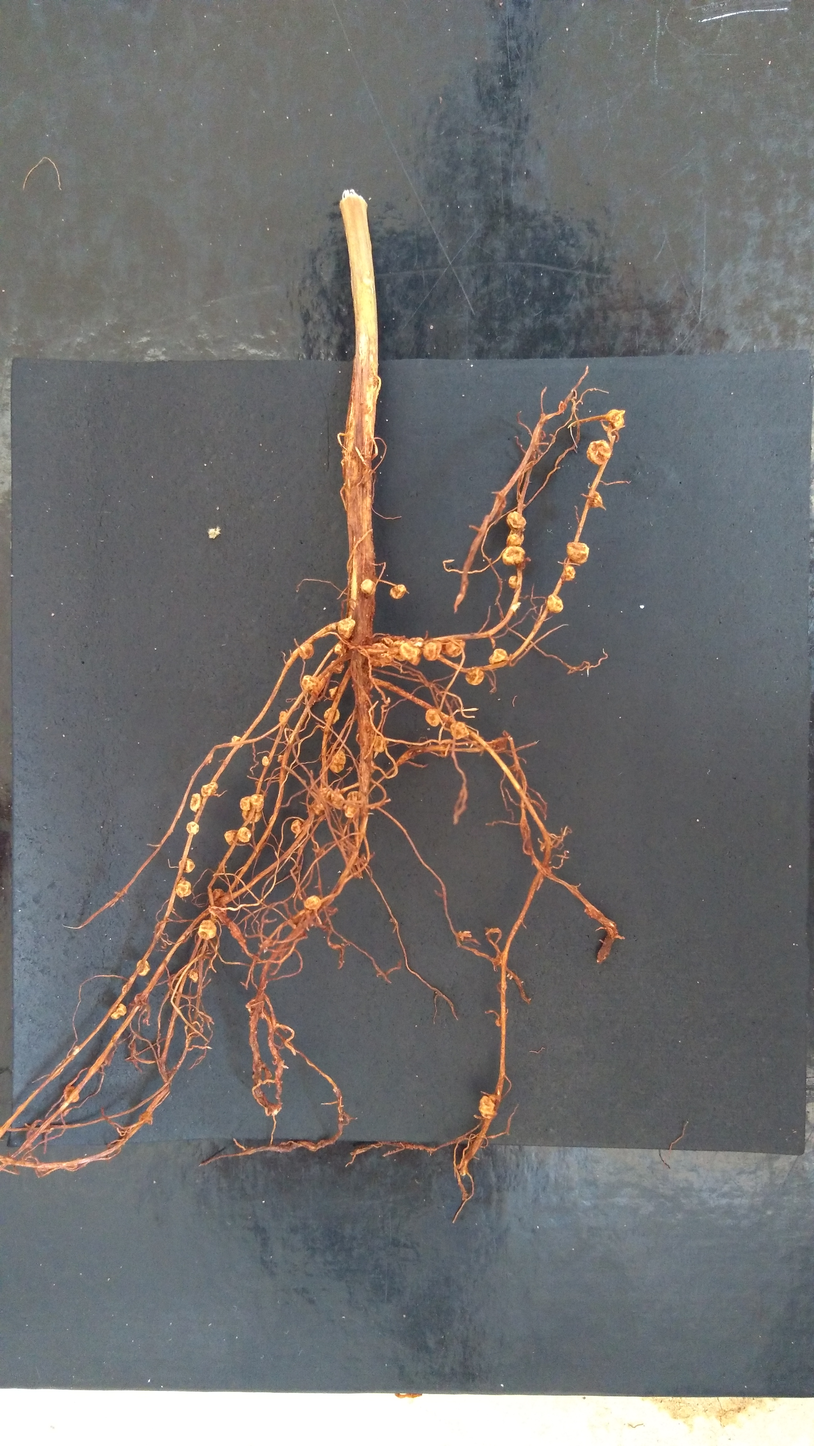nodule: (368, 642, 397, 668), (356, 731, 390, 753), (311, 786, 335, 817), (585, 439, 612, 466), (565, 539, 591, 565), (209, 887, 228, 922), (398, 642, 422, 666), (344, 789, 363, 819), (502, 545, 527, 567), (443, 638, 468, 660), (449, 720, 471, 744), (477, 1095, 498, 1120), (222, 829, 251, 847), (300, 674, 323, 696), (506, 510, 527, 533), (463, 665, 486, 686), (421, 641, 444, 662), (197, 918, 218, 940), (328, 749, 346, 774), (605, 409, 628, 428), (487, 646, 510, 665), (337, 617, 356, 640), (546, 593, 565, 614), (174, 878, 193, 898), (424, 707, 442, 728), (241, 808, 263, 825), (329, 788, 345, 811), (586, 490, 605, 509), (297, 642, 316, 661), (322, 706, 342, 724), (392, 638, 407, 661), (177, 856, 196, 874), (303, 894, 322, 912), (249, 792, 266, 812), (199, 781, 219, 798), (110, 1003, 128, 1021), (359, 578, 377, 595), (560, 565, 576, 583), (237, 826, 253, 844), (189, 792, 202, 814), (505, 532, 525, 546), (389, 584, 407, 599), (136, 959, 151, 977), (330, 660, 346, 676), (64, 1086, 80, 1102), (409, 636, 427, 649), (185, 820, 200, 835), (289, 819, 303, 835), (507, 574, 519, 591), (239, 795, 251, 811), (188, 968, 199, 984), (333, 643, 346, 656), (232, 735, 244, 749), (380, 636, 394, 647), (328, 686, 339, 698), (278, 710, 287, 723), (261, 756, 270, 766), (276, 754, 284, 763)
